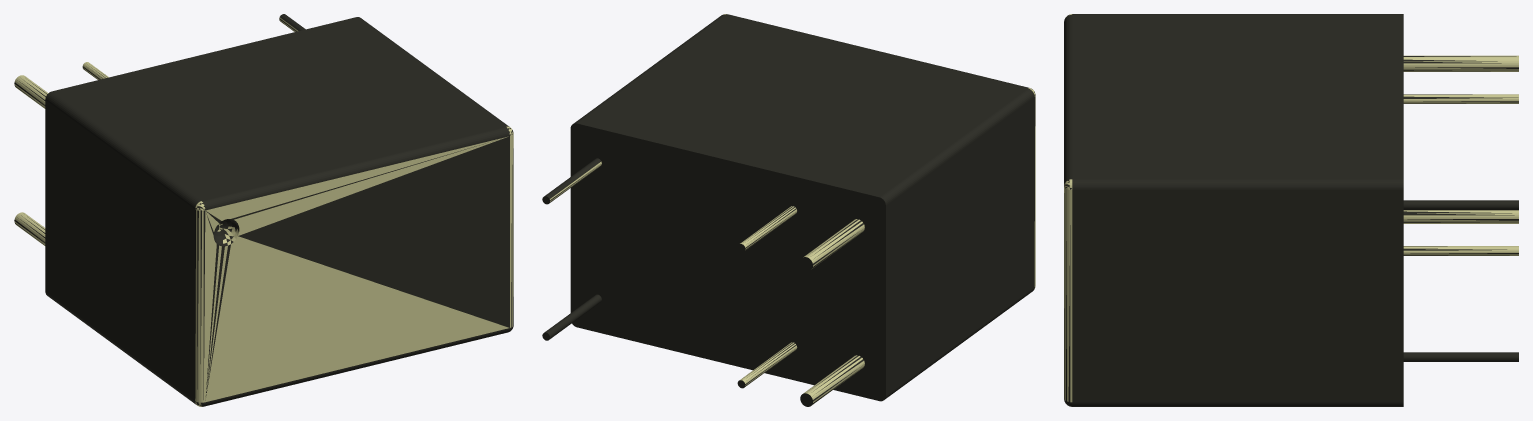
File: Relay_SPDT_HsinDa_Y14.glb
The picture shows the model from 3 angles, left to right: view 1: azimuth 30°, elevation 25°; view 2: azimuth 150°, elevation 25°; view 3: azimuth 270°, elevation 25°; orthographic projection. The views are drawn at different scales.
Visible parts, largest first — view 1: Shape_IndexedFaceSet; view 2: Shape_IndexedFaceSet; view 3: Shape_IndexedFaceSet.
Boxes of the visible parts, x1,y1,x2,y2 form: Shape_IndexedFaceSet: (14,14,513,406); Shape_IndexedFaceSet: (542,14,1035,406); Shape_IndexedFaceSet: (1064,14,1518,406).
Bounding box in the file's own units: 4.84 × 2.99 × 5.43.
